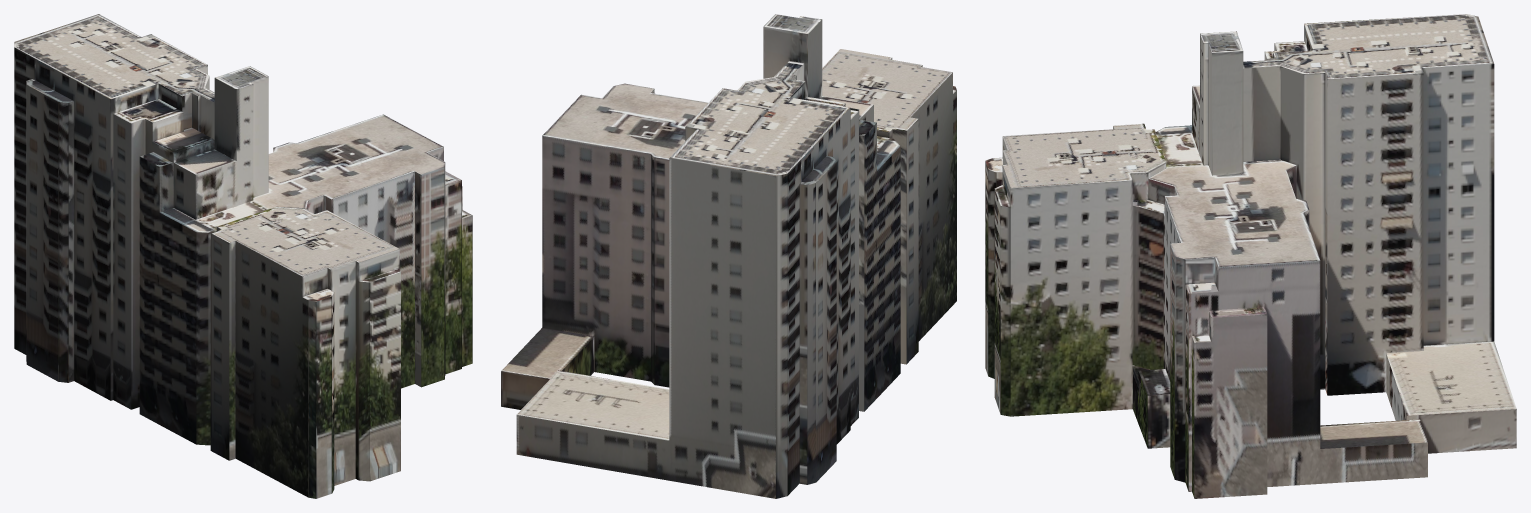
3 renders of one model, left to right at view 1: azimuth 30°, elevation 25°; view 2: azimuth 150°, elevation 25°; view 3: azimuth 270°, elevation 25°, orthographic. The views are drawn at different scales.
Parts seen in each view (by area): view 1: Z_UP; view 2: Z_UP; view 3: Z_UP.
Part boxes in pixels (x1,y1,x2,y2): Z_UP: [14, 14, 472, 498]; Z_UP: [501, 14, 956, 498]; Z_UP: [985, 14, 1516, 498].
Size of the model in its own units: 45.89 by 42.99 by 59.92.
2 materials, 1 textured.
